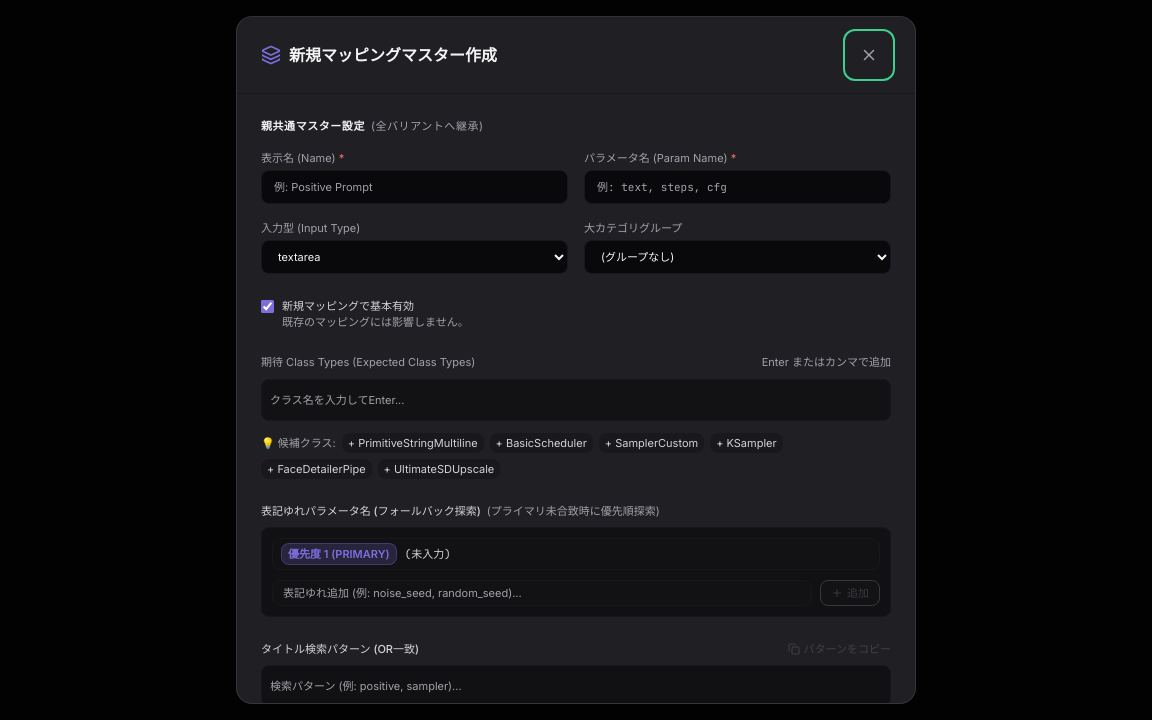
Test: MappingMasterEditModal Dynamic ClassType Autocomplete Dropdown › renders autocomplete dropdown on typing matching text and adds on click
The width and height of the screenshot is (1152, 720).
Type "ksam" into the field with placeholder "クラス名を入力してEnter..." at (576, 400), box left=270, top=392, right=882, bottom=408
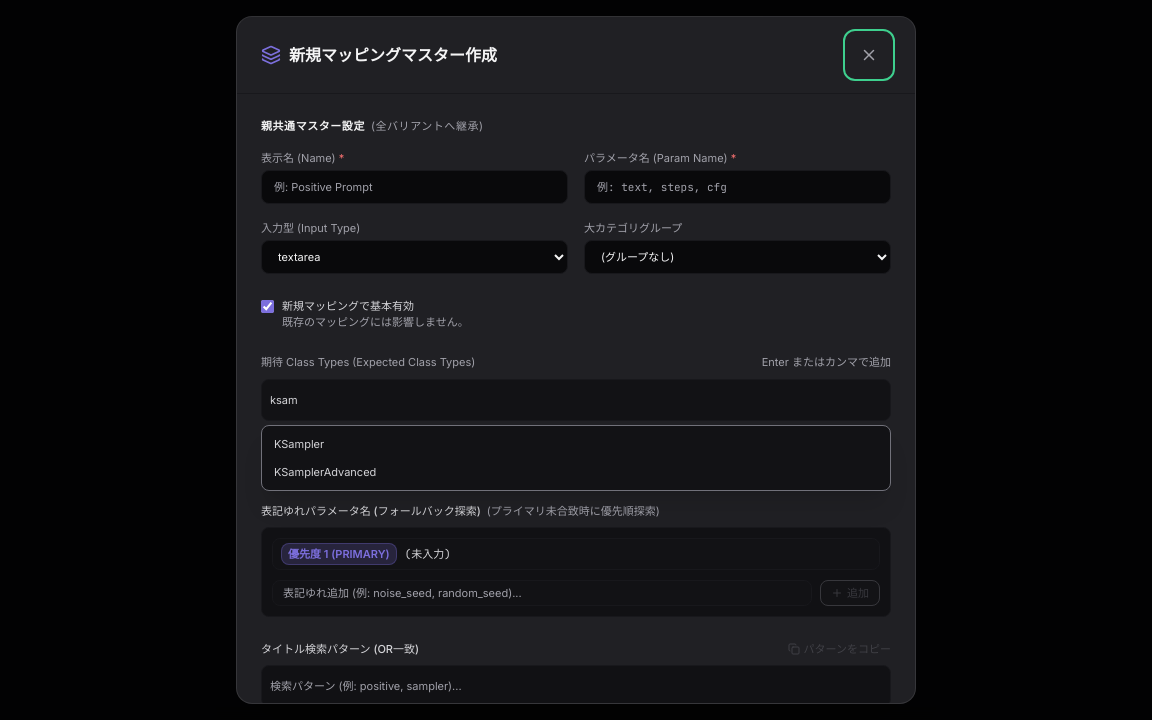
Expected: the list with test id "classtype-autocomplete-dropdown" is shown, left=261, top=424, right=891, bottom=490
Expected: the text "KSampler" is shown
Expected: the text "KSamplerAdvanced" is shown, left=274, top=464, right=376, bottom=480
Press the mouse on the text "KSampler" at (299, 444), box left=274, top=436, right=324, bottom=452
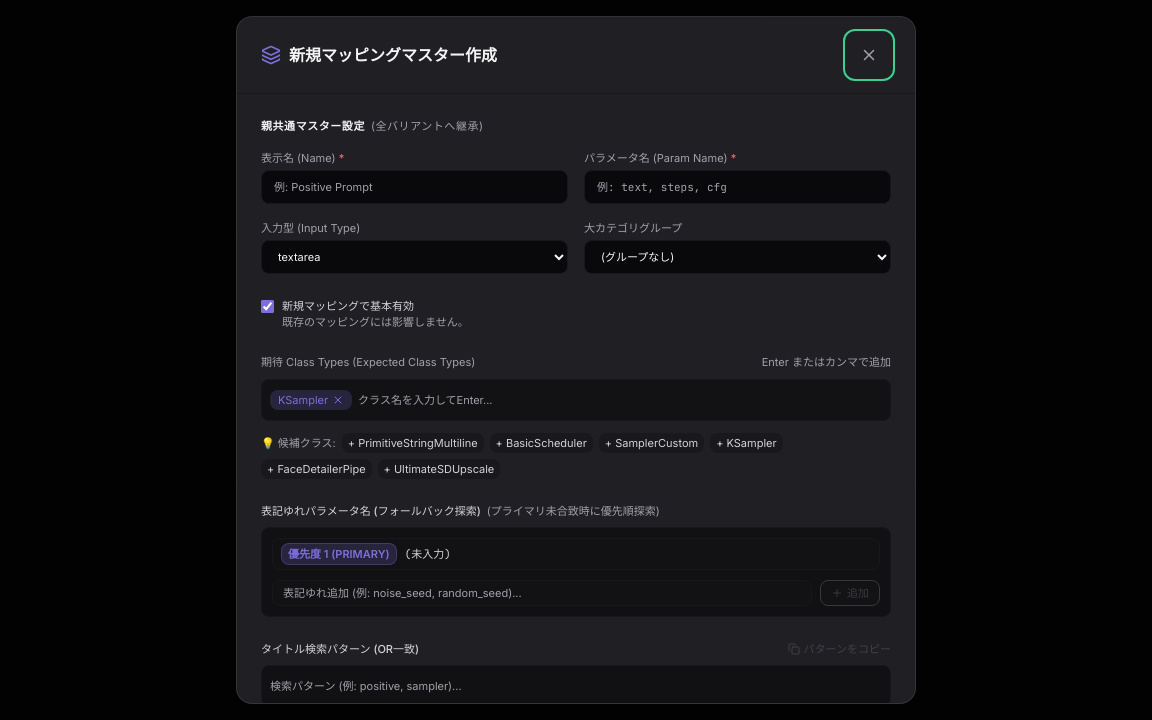
Expected: the button named "KSampler を削除" is shown, left=332, top=394, right=344, bottom=406
Expected: the field with placeholder "クラス名を入力してEnter..." is empty, left=358, top=392, right=882, bottom=408
